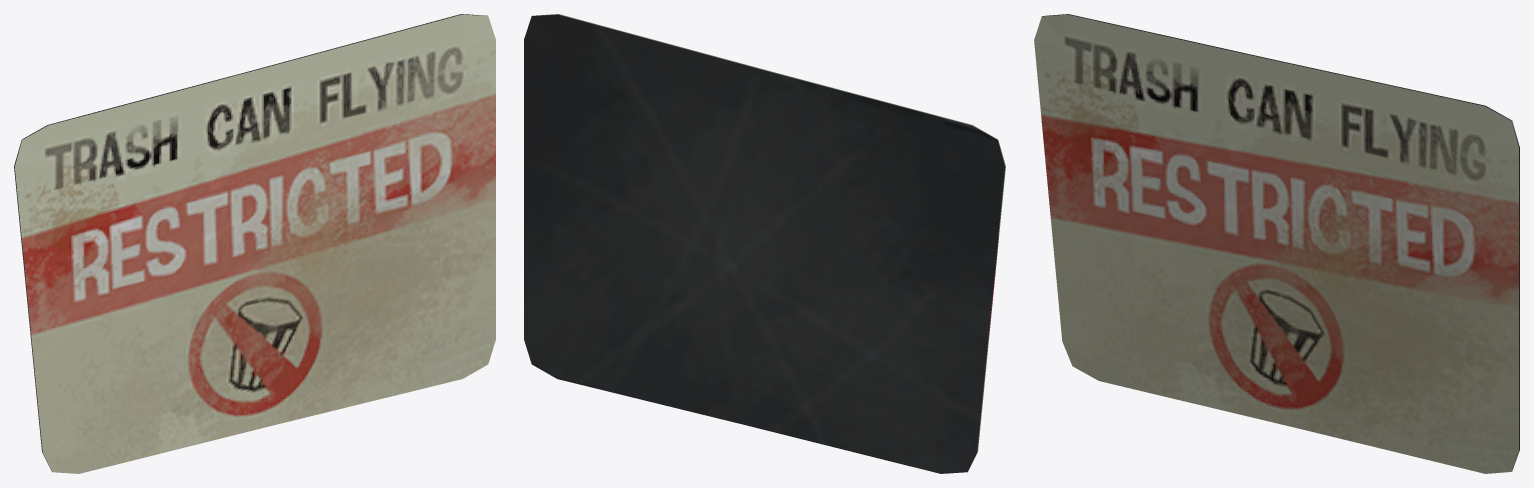
The model's file is restricted_sign.fbx.
3 renders of one model, left to right at view 1: azimuth 30°, elevation 25°; view 2: azimuth 150°, elevation 25°; view 3: azimuth 330°, elevation 25°, orthographic.
Visible parts, largest first — view 1: restricted_sign; view 2: restricted_sign; view 3: restricted_sign.
Boxes of the visible parts, x1,y1,x2,y2 form: restricted_sign: (14, 14, 495, 473); restricted_sign: (524, 14, 1005, 473); restricted_sign: (1034, 14, 1519, 473).
Bounding box in the file's own units: 136 × 98.87 × 0.3907.
